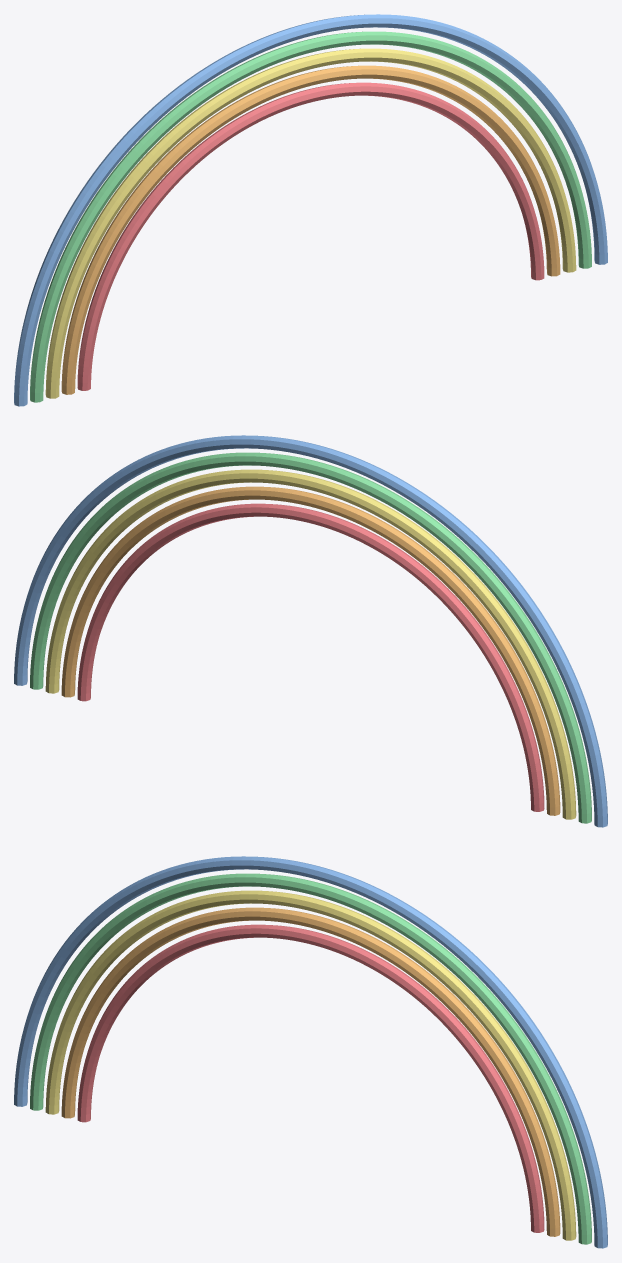
The model's file is moonbow_rainbow.glb.
3 renders of one model, top to bottom at view 1: azimuth 30°, elevation 25°; view 2: azimuth 150°, elevation 25°; view 3: azimuth 330°, elevation 25°, orthographic.
Parts seen in each view (by area): view 1: RainbowBand4, RainbowBand3, RainbowBand2, RainbowBand1, RainbowBand0; view 2: RainbowBand4, RainbowBand3, RainbowBand2, RainbowBand1, RainbowBand0; view 3: RainbowBand4, RainbowBand3, RainbowBand2, RainbowBand1, RainbowBand0.
Boxes of the visible parts, left/top/right/bottom form: RainbowBand4: left=14, top=14, right=607, bottom=406; RainbowBand3: left=30, top=31, right=591, bottom=402; RainbowBand2: left=45, top=48, right=576, bottom=398; RainbowBand1: left=61, top=65, right=560, bottom=394; RainbowBand0: left=77, top=82, right=544, bottom=390; RainbowBand4: left=14, top=435, right=607, bottom=827; RainbowBand3: left=30, top=452, right=591, bottom=823; RainbowBand2: left=45, top=469, right=576, bottom=819; RainbowBand1: left=61, top=486, right=560, bottom=815; RainbowBand0: left=77, top=503, right=544, bottom=811; RainbowBand4: left=14, top=856, right=607, bottom=1248; RainbowBand3: left=30, top=873, right=591, bottom=1244; RainbowBand2: left=45, top=890, right=576, bottom=1240; RainbowBand1: left=61, top=907, right=560, bottom=1236; RainbowBand0: left=77, top=924, right=544, bottom=1232.
Bounding box in the file's own units: 15.68 × 7.84 × 0.32.
